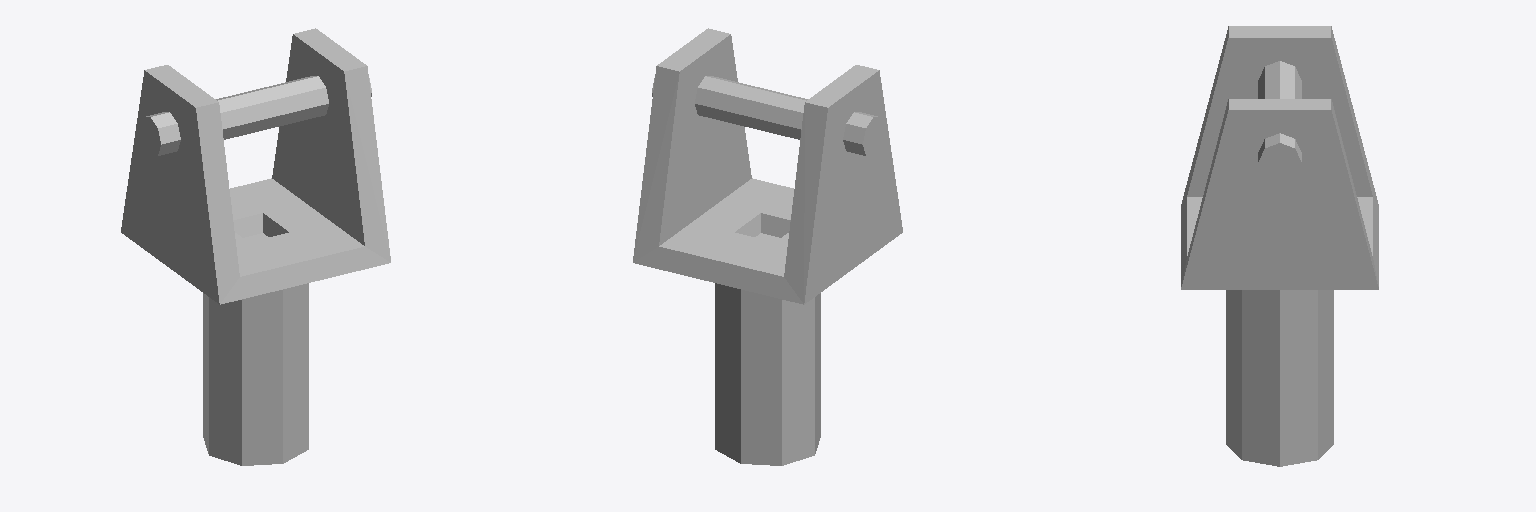
File: cradle.obj
The picture shows the model from 3 angles: view 1: azimuth 30°, elevation 25°; view 2: azimuth 150°, elevation 25°; view 3: azimuth 270°, elevation 25°; orthographic projection.
Parts seen in each view (by area): view 1: Turret_pivot, Motor_Top, Gun_Pivot; view 2: Turret_pivot, Motor_Top, Gun_Pivot; view 3: Turret_pivot, Motor_Top, Gun_Pivot.
Part boxes in pixels (bbox=[...]): Turret_pivot: bbox=[121, 28, 390, 304]; Motor_Top: bbox=[203, 233, 308, 465]; Gun_Pivot: bbox=[140, 76, 371, 155]; Turret_pivot: bbox=[633, 28, 902, 304]; Motor_Top: bbox=[715, 233, 820, 465]; Gun_Pivot: bbox=[652, 76, 883, 155]; Turret_pivot: bbox=[1181, 26, 1378, 289]; Motor_Top: bbox=[1226, 290, 1333, 466]; Gun_Pivot: bbox=[1258, 61, 1301, 181].
Bounding box in the file's own units: 0.1908 × 0.3243 × 0.155.